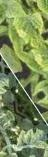Tomato leaf yellow virus: (23, 39, 48, 90), (0, 82, 9, 102), (44, 35, 48, 66)
